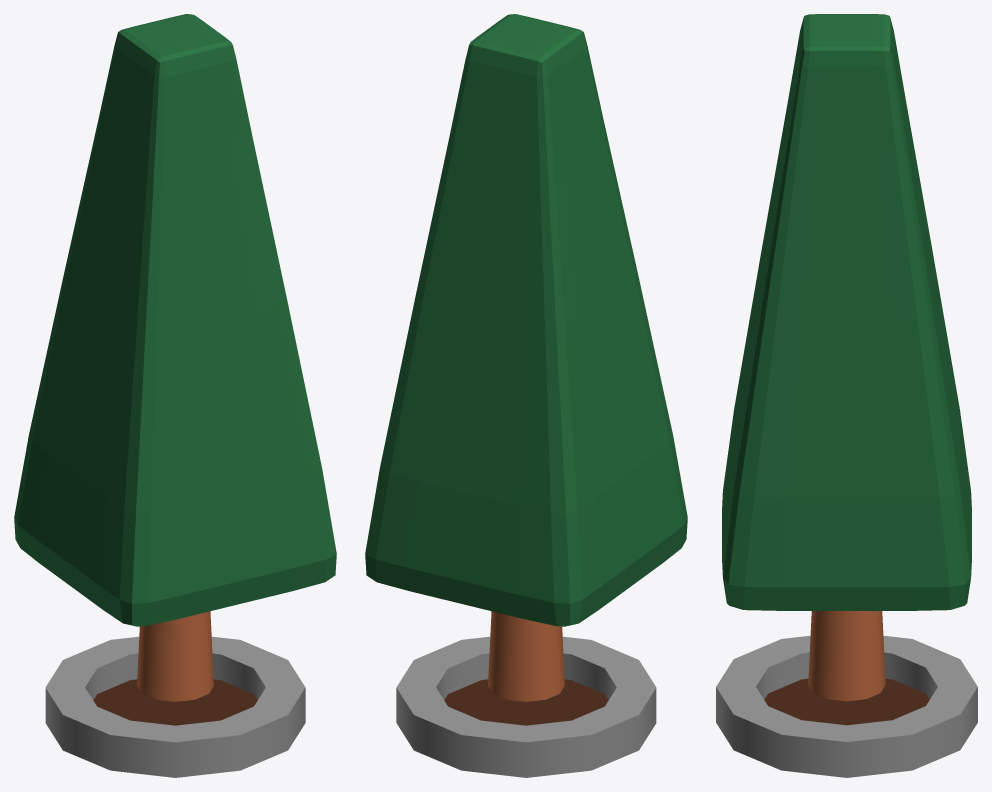
Rendered from Tree_4.fbx.
3 views of the same model, side by side, from view 1: azimuth 30°, elevation 25°; view 2: azimuth 150°, elevation 25°; view 3: azimuth 270°, elevation 25° (orthographic).
Parts seen in each view (by area): view 1: Cylinder.006; view 2: Cylinder.006; view 3: Cylinder.006.
Boxes of the visible parts, x1,y1,x2,y2 form: Cylinder.006: [14, 14, 336, 777]; Cylinder.006: [365, 14, 687, 777]; Cylinder.006: [716, 14, 977, 777].
Bounding box in the file's own units: 376 × 1097 × 376.
